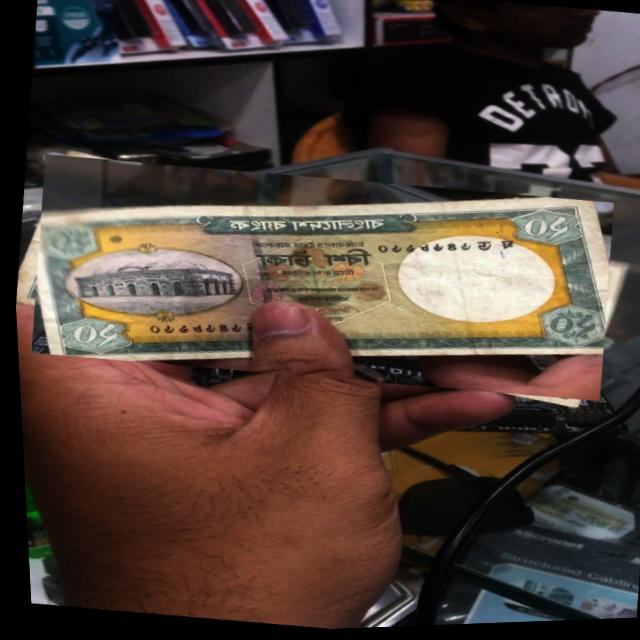Taka: (19, 137, 619, 422)
